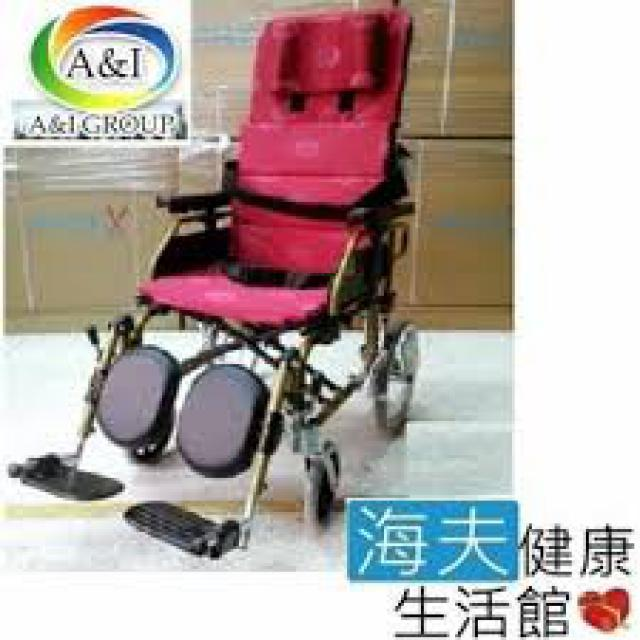wheelchair: (8, 0, 424, 563)
